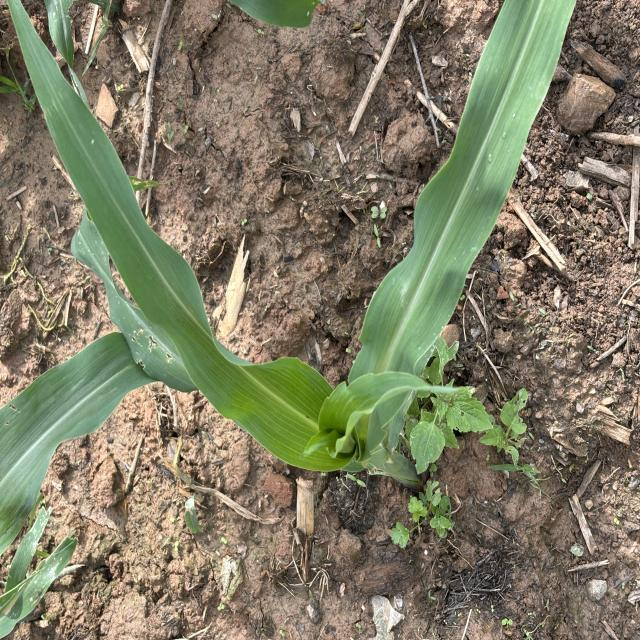maize: (0, 39, 593, 486)
weed: (395, 358, 515, 476)
